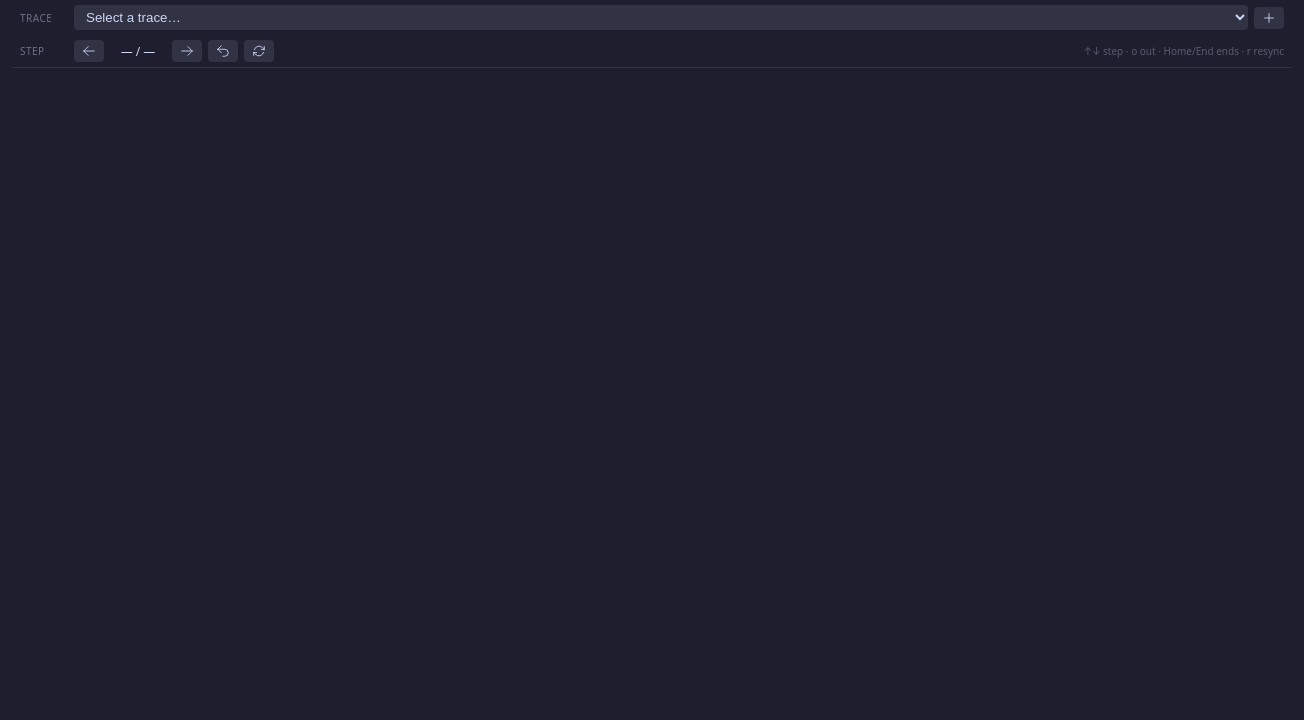
Test: DebugWalkthroughTile › registers a trace file picked from disk and selects it
Click the button named "Add trace" at (1269, 18), box x1=1254 y1=6 x2=1284 y2=28
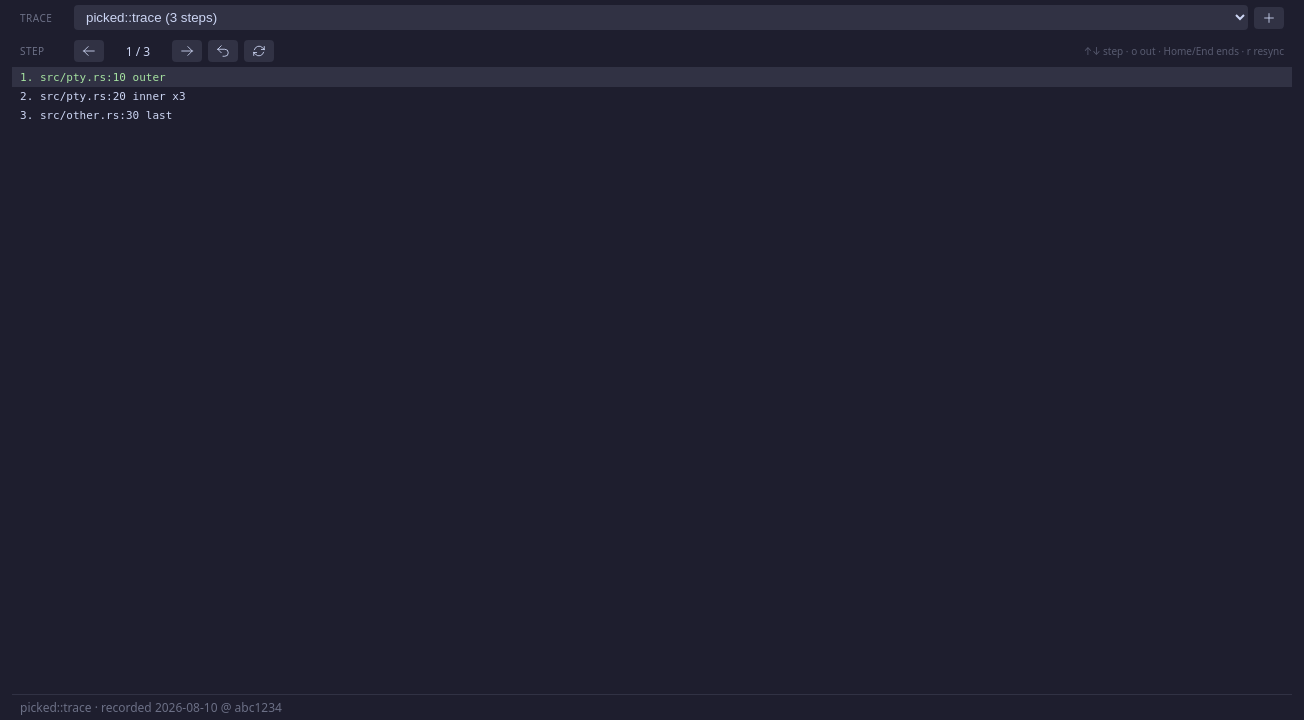
Result: the button with test id "walkthrough-step-current" is shown at x1=12 y1=68 x2=1292 y2=87
